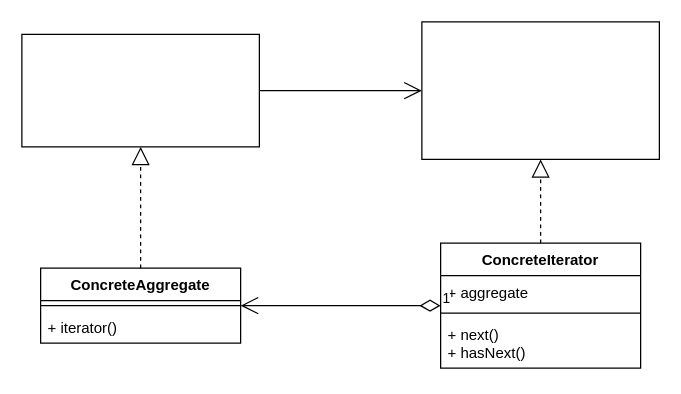
Some shapes in this 681 by 394 pixel diagram are drawn without their labels. The centre of each missing label's shape, as x and y in pixels:
"<<Interface>> Aggregate + iterator()" goes at (140,90).
"<<Interface>> Iterator + hasNext() + next()" goes at (540,90).
